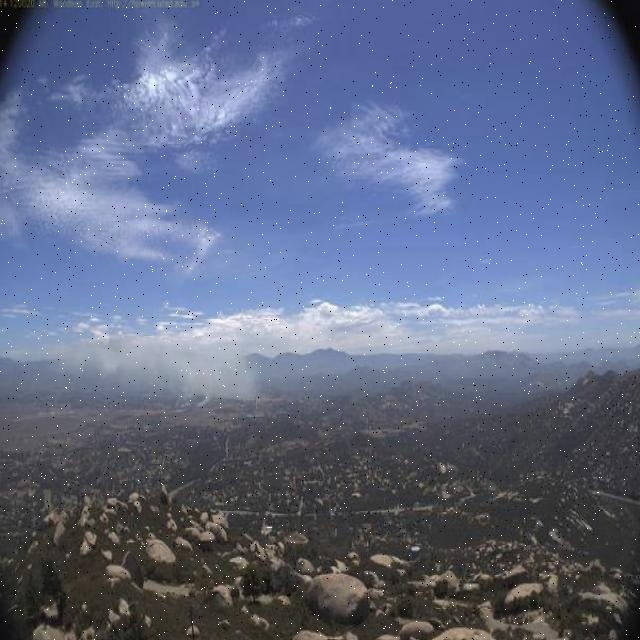smoke: (61, 316, 263, 406)
